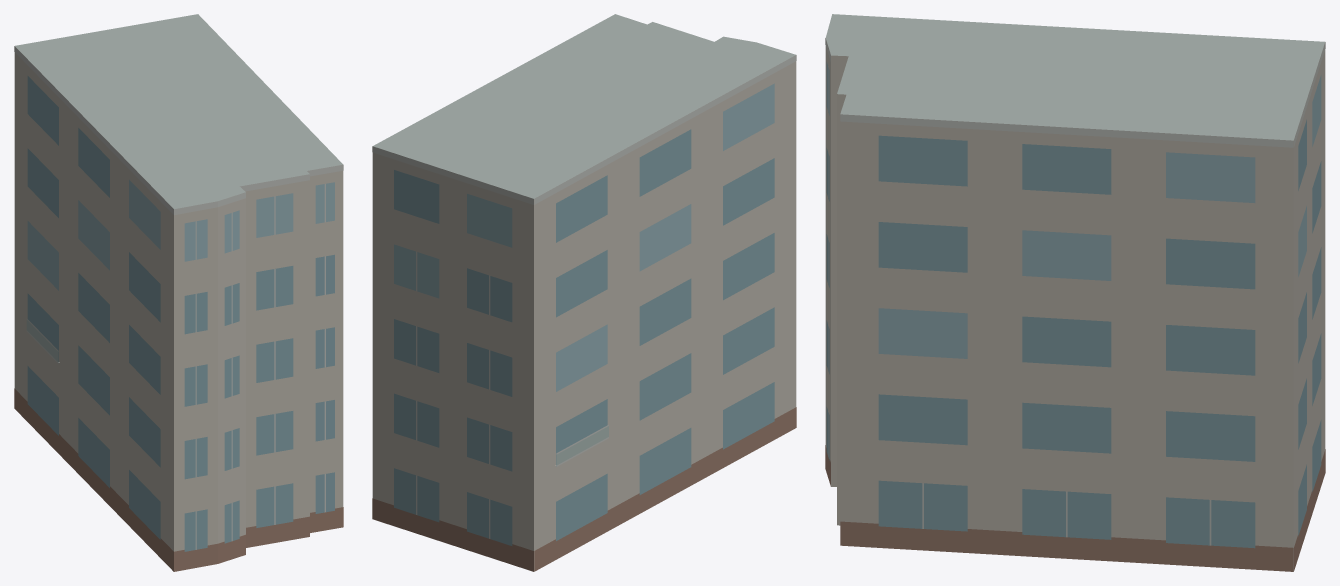
File: survey-upis-32755766.glb
The picture shows the model from 3 angles, left to right: view 1: azimuth 30°, elevation 25°; view 2: azimuth 150°, elevation 25°; view 3: azimuth 270°, elevation 25°; orthographic projection. The views are drawn at different scales.
Visible parts, largest first — view 1: survey-upis-32755766.tmp; view 2: survey-upis-32755766.tmp; view 3: survey-upis-32755766.tmp.
Boxes of the visible parts, x1,y1,x2,y2 form: survey-upis-32755766.tmp: [14, 14, 343, 571]; survey-upis-32755766.tmp: [372, 14, 796, 571]; survey-upis-32755766.tmp: [825, 14, 1325, 571].
Bounding box in the file's own units: 9.26 × 14.7 × 15.45.
